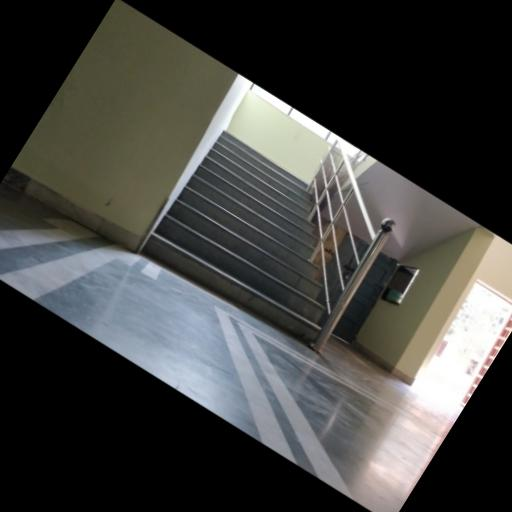stairs: (142, 134, 323, 342)
